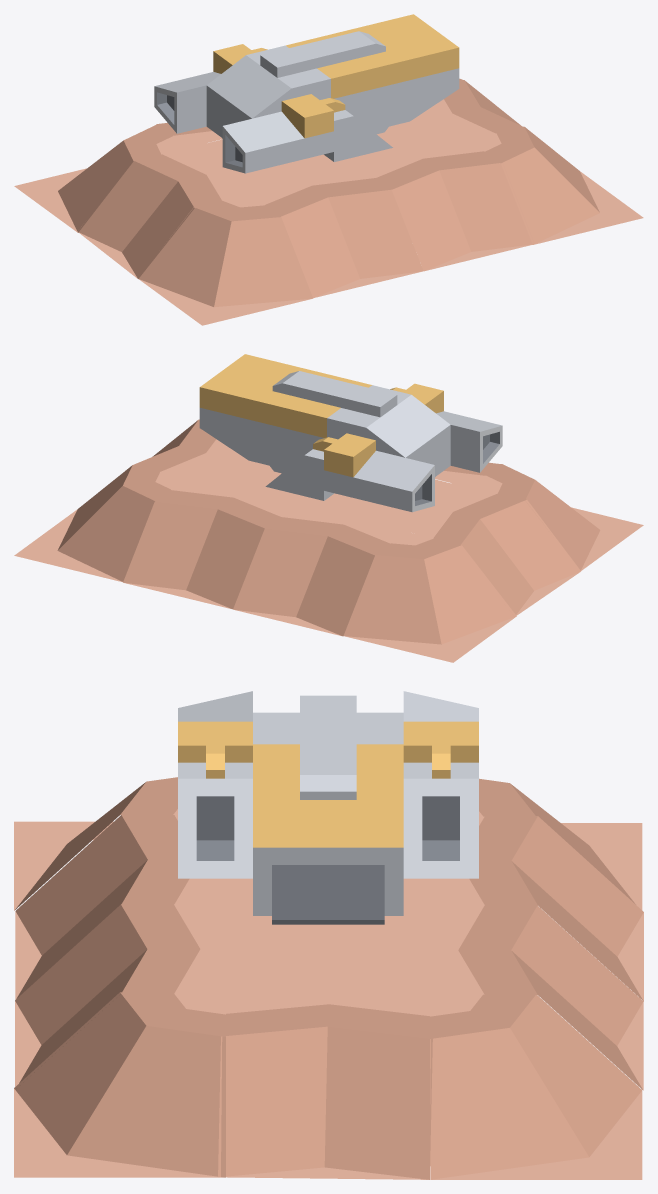
The model's file is spaceshipLanded.glb.
3 views of the same model, one above another, from view 1: azimuth 30°, elevation 25°; view 2: azimuth 150°, elevation 25°; view 3: azimuth 270°, elevation 25° (orthographic). The views are drawn at different scales.
Parts seen in each view (by area): view 1: terrain, craft_cargoA.001; view 2: terrain, craft_cargoA.001; view 3: terrain, craft_cargoA.001.
Boxes of the visible parts, box(x1,y1,x2,y2) form: terrain: box(14, 78, 643, 325); craft_cargoA.001: box(154, 14, 459, 173); terrain: box(14, 419, 643, 662); craft_cargoA.001: box(199, 354, 502, 512); terrain: box(14, 777, 643, 1179); craft_cargoA.001: box(178, 691, 478, 924).
Size of the model in its own units: 24.72 by 8.24 by 18.35.
